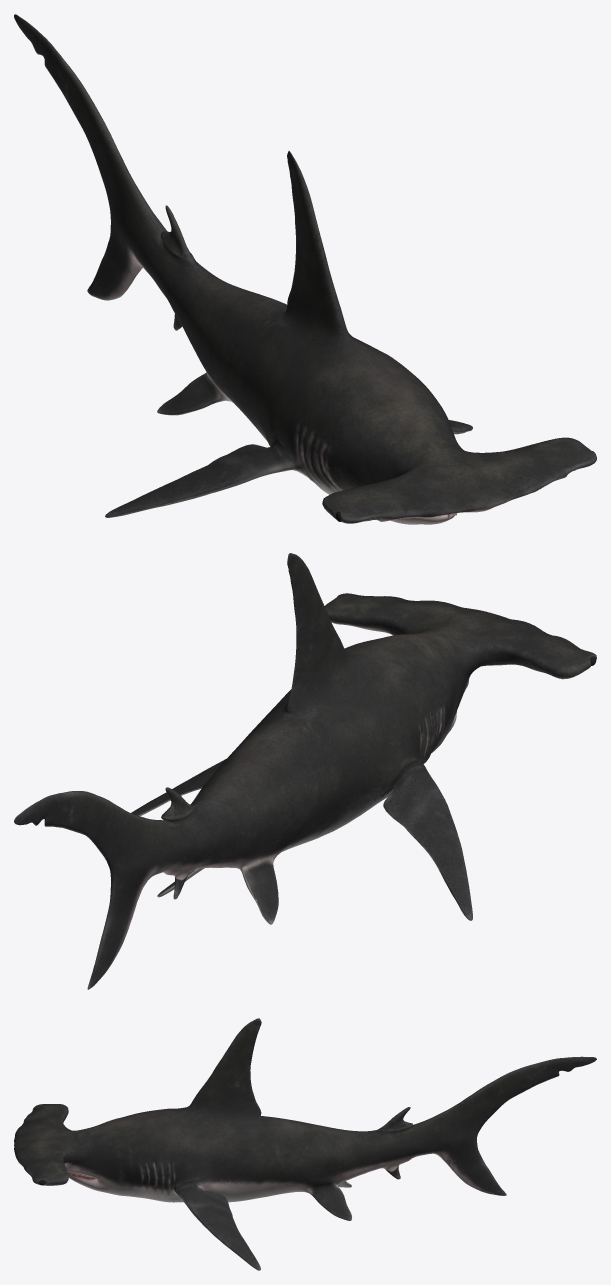
The model's file is tubarao-martelo.glb.
3 renders of one model, top to bottom at view 1: azimuth 30°, elevation 25°; view 2: azimuth 150°, elevation 25°; view 3: azimuth 270°, elevation 25°, orthographic. The views are drawn at different scales.
Parts seen in each view (by area): view 1: hammerhead_shark.1; view 2: hammerhead_shark.1; view 3: hammerhead_shark.1.
Boxes of the visible parts, x1,y1,x2,y2 form: hammerhead_shark.1: [14, 14, 596, 524]; hammerhead_shark.1: [14, 553, 596, 989]; hammerhead_shark.1: [14, 1018, 596, 1270].
Size of the model in its own units: 2.26 by 1.9 by 5.08.
1 material, 1 textured.
